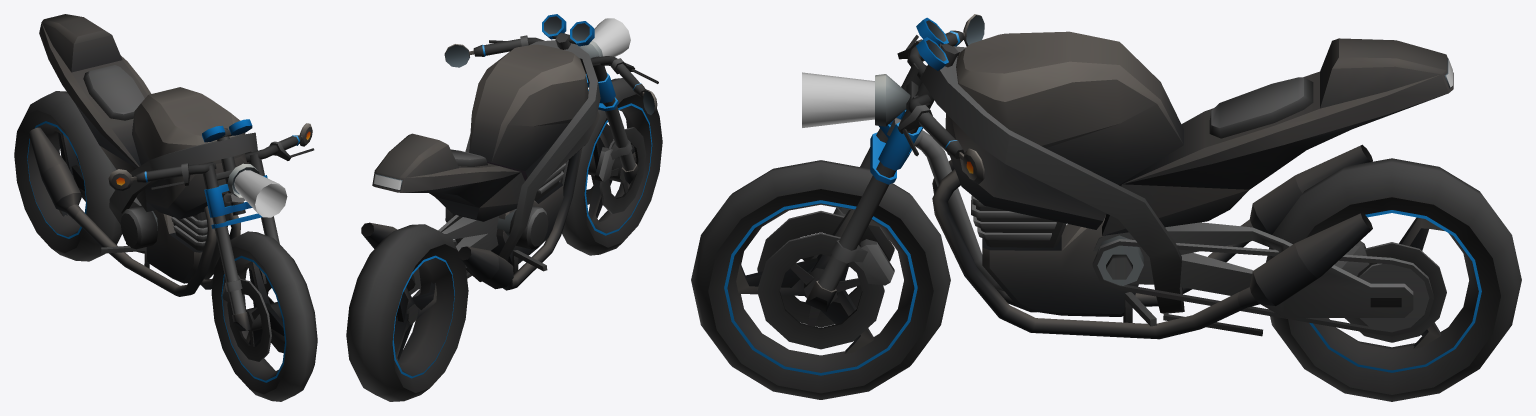
Rendered from TSP_Motorcycle_01A.fbx.
3 views of the same model, side by side, from view 1: azimuth 30°, elevation 25°; view 2: azimuth 150°, elevation 25°; view 3: azimuth 270°, elevation 25° (orthographic). The views are drawn at different scales.
Parts seen in each view (by area): view 1: TSP_Motorcycle_01A_Body, TSP_Motorcycle_01A_Wheel_F, TSP_Motorcycle_01A_Wheel_R, TSP_Motorcycle_01A_Handlebars, TSP_Motorcycle_01A_Handlebars_Headlights; view 2: TSP_Motorcycle_01A_Body, TSP_Motorcycle_01A_Wheel_R, TSP_Motorcycle_01A_Wheel_F, TSP_Motorcycle_01A_Handlebars, TSP_Motorcycle_01A_Swingarm, TSP_Motorcycle_01A_Handlebars_Headlights; view 3: TSP_Motorcycle_01A_Body, TSP_Motorcycle_01A_Wheel_F, TSP_Motorcycle_01A_Wheel_R, TSP_Motorcycle_01A_Swingarm, TSP_Motorcycle_01A_Handlebars, TSP_Motorcycle_01A_Handlebars_Headlights.
Boxes of the visible parts, x1,y1,x2,y2 form: TSP_Motorcycle_01A_Body: (28,14,257,296); TSP_Motorcycle_01A_Wheel_F: (211,231,317,401); TSP_Motorcycle_01A_Wheel_R: (14,91,122,261); TSP_Motorcycle_01A_Handlebars: (108,119,314,331); TSP_Motorcycle_01A_Handlebars_Headlights: (234,170,287,217); TSP_Motorcycle_01A_Body: (361,40,600,290); TSP_Motorcycle_01A_Wheel_R: (346,224,468,401); TSP_Motorcycle_01A_Wheel_F: (562,78,662,255); TSP_Motorcycle_01A_Handlebars: (444,14,658,184); TSP_Motorcycle_01A_Swingarm: (406,209,516,297); TSP_Motorcycle_01A_Handlebars_Headlights: (592,18,630,56); TSP_Motorcycle_01A_Body: (887,31,1453,339); TSP_Motorcycle_01A_Wheel_F: (691,160,950,399); TSP_Motorcycle_01A_Wheel_R: (1266,158,1521,401); TSP_Motorcycle_01A_Swingarm: (1092,222,1433,336); TSP_Motorcycle_01A_Handlebars: (805,14,984,311); TSP_Motorcycle_01A_Handlebars_Headlights: (802,72,874,127).
Bounding box in the file's own units: 0.9809 × 1.14 × 2.33.
